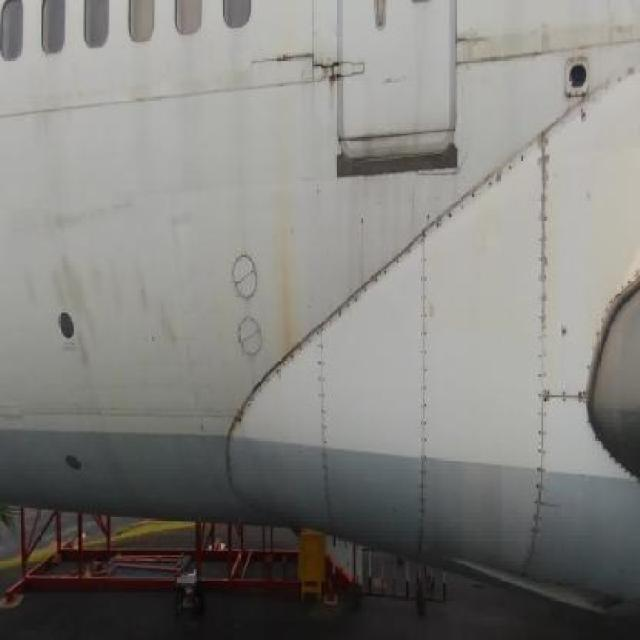Missing-Rivet: (530, 111, 556, 549), (436, 153, 529, 236), (412, 212, 432, 516), (336, 245, 412, 318), (311, 309, 332, 511), (244, 344, 308, 404), (560, 372, 591, 439)
Rust: (268, 141, 306, 364), (316, 51, 350, 123)
Scartch: (17, 250, 183, 379), (21, 181, 145, 244), (455, 21, 562, 94), (163, 200, 202, 265), (606, 3, 640, 62)
